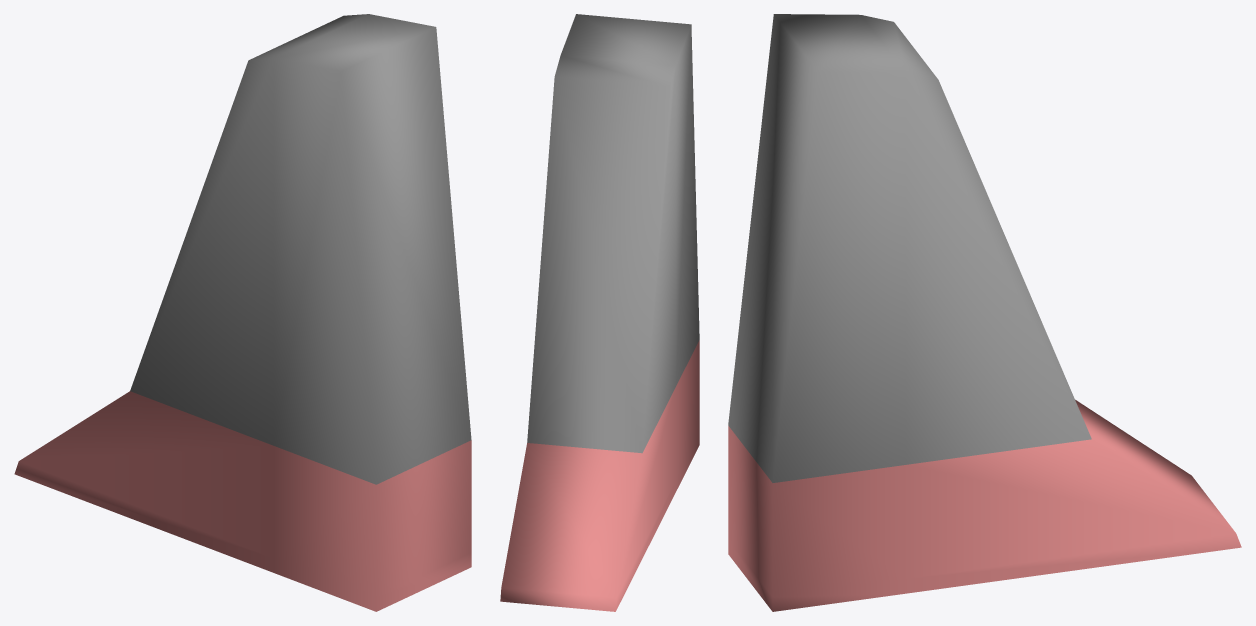
Rendered from kidung.gltf.
The picture shows the model from 3 angles, left to right: view 1: azimuth 30°, elevation 25°; view 2: azimuth 150°, elevation 25°; view 3: azimuth 270°, elevation 25°; orthographic projection. The views are drawn at different scales.
Visible parts, largest first — view 1: kidung; view 2: kidung; view 3: kidung.
Boxes of the visible parts, box(x1,y1,x2,y2) form: kidung: box(14, 14, 471, 611); kidung: box(500, 14, 699, 611); kidung: box(728, 14, 1241, 611).
Size of the model in its own units: 1.78 by 3.63 by 3.16.
